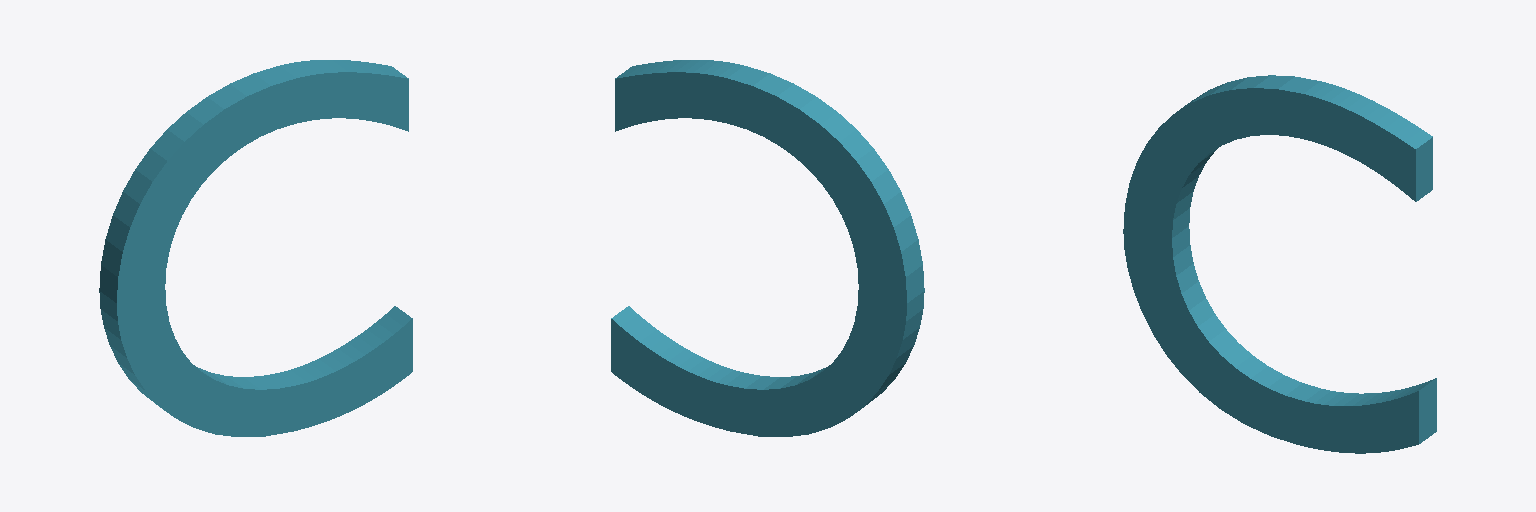
3 renders of one model, left to right at view 1: azimuth 30°, elevation 25°; view 2: azimuth 150°, elevation 25°; view 3: azimuth 330°, elevation 25°, orthographic.
Visible parts, largest first — view 1: text_C_text_C; view 2: text_C_text_C; view 3: text_C_text_C.
Boxes of the visible parts, x1,y1,x2,y2 form: text_C_text_C: [99, 60, 412, 436]; text_C_text_C: [611, 60, 924, 436]; text_C_text_C: [1123, 75, 1436, 453].
Size of the model in its own units: 0.615 by 0.7 by 0.0625.
Materials: 1 (1 with a texture image).